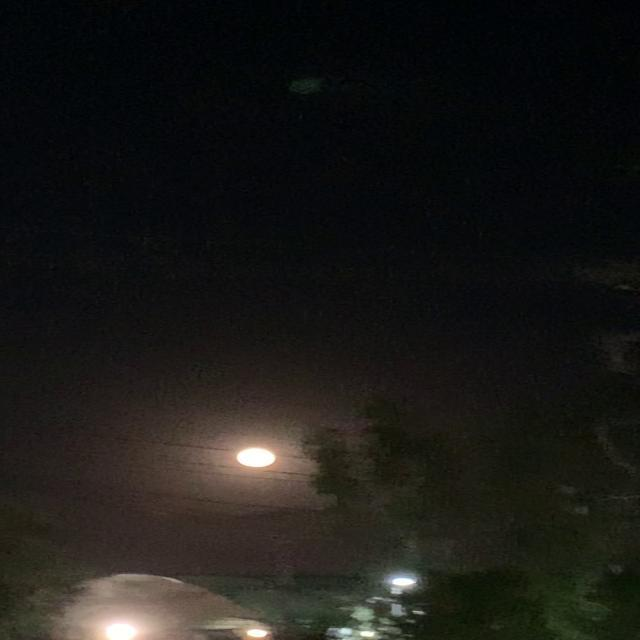moon: (244, 446, 286, 470)
